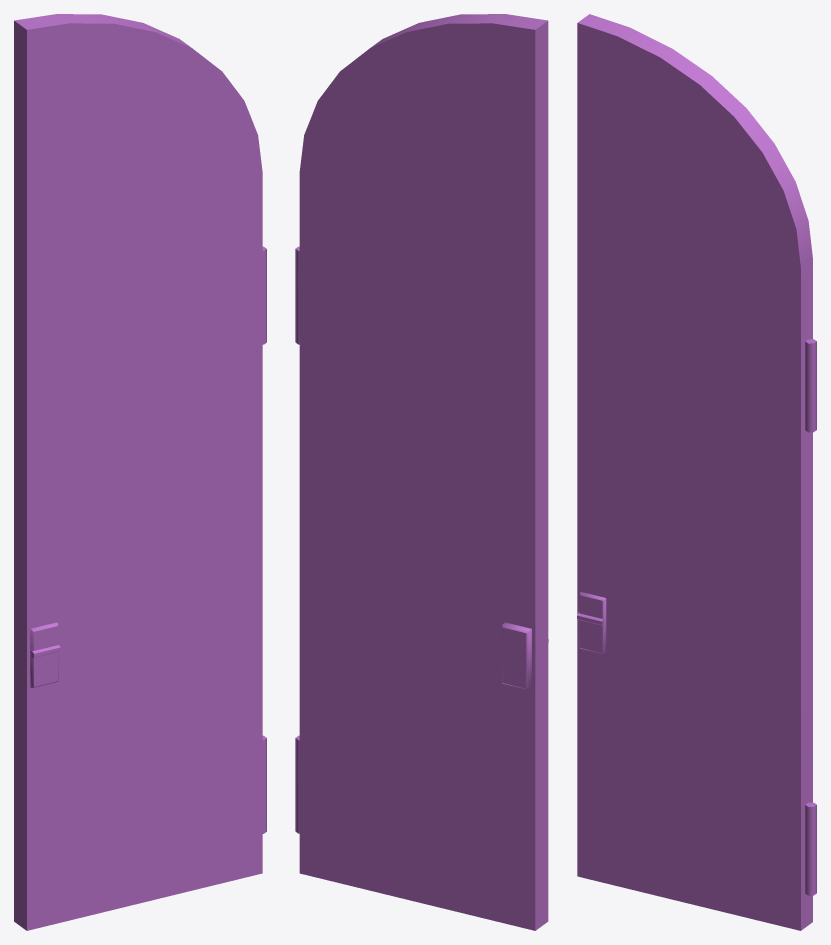
The model's file is Church1_Door_B.fbx.
The picture shows the model from 3 angles, left to right: view 1: azimuth 30°, elevation 25°; view 2: azimuth 150°, elevation 25°; view 3: azimuth 330°, elevation 25°; orthographic projection. The views are drawn at different scales.
Visible parts, largest first — view 1: Church1_Door_B; view 2: Church1_Door_B; view 3: Church1_Door_B.
Part boxes in pixels (box(x1,y1,x2,y2)): Church1_Door_B: box(14, 14, 266, 930); Church1_Door_B: box(295, 14, 548, 930); Church1_Door_B: box(577, 14, 816, 930).
Size of the model in its own units: 1.28 by 4.5 by 0.1876.
